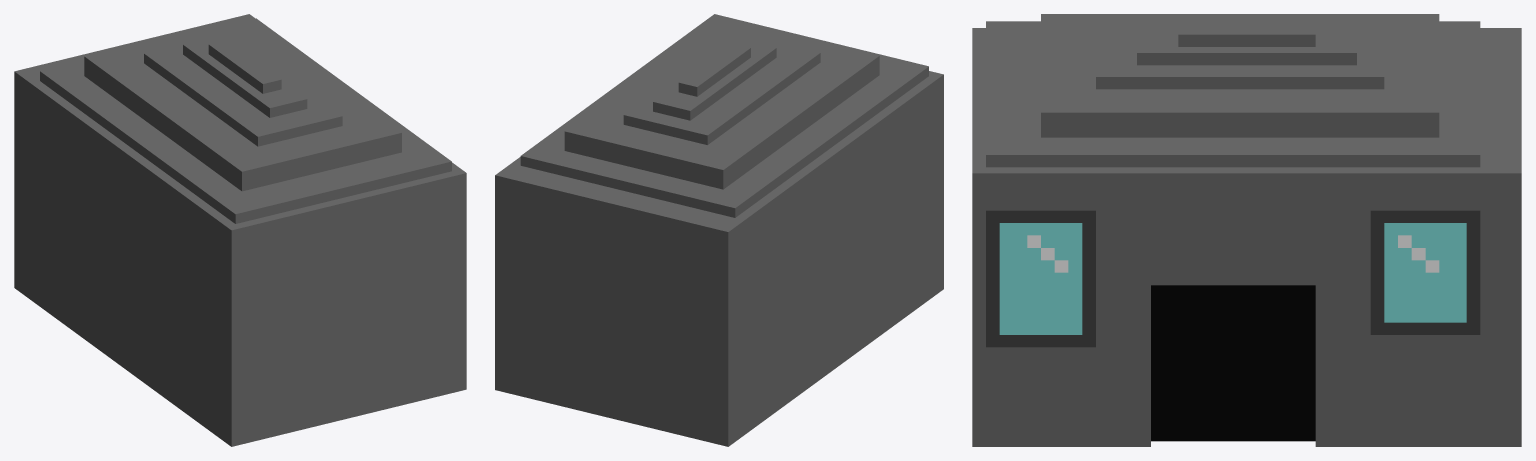
The model's file is просто домик.obj.
The picture shows the model from 3 angles, left to right: view 1: azimuth 30°, elevation 25°; view 2: azimuth 150°, elevation 25°; view 3: azimuth 270°, elevation 25°; orthographic projection. The views are drawn at different scales.
Size of the model in its own units: 2.5 by 2.8 by 4.
1 material, 1 textured.
